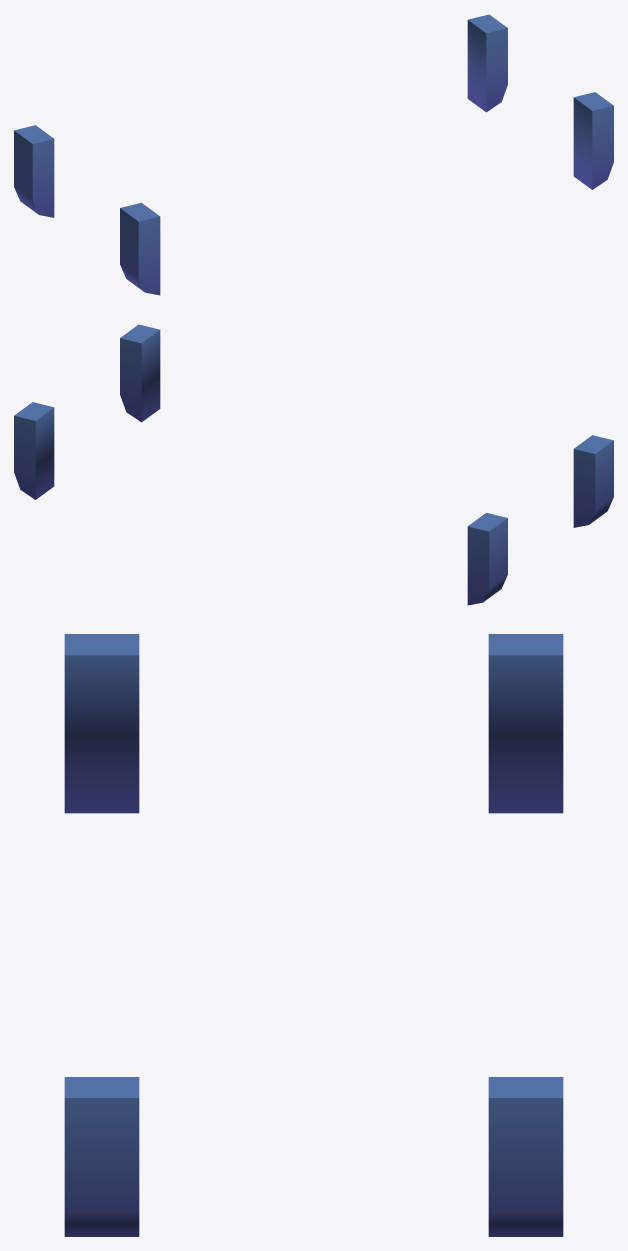
File: supports-wide-clamp.glb
3 renders of one model, top to bottom at view 1: azimuth 30°, elevation 25°; view 2: azimuth 150°, elevation 25°; view 3: azimuth 270°, elevation 25°, orthographic. The views are drawn at different scales.
Parts seen in each view (by area): view 1: supports-wide-clamp; view 2: supports-wide-clamp; view 3: supports-wide-clamp.
Boxes of the visible parts, x1,y1,x2,y2 form: supports-wide-clamp: (14,14,613,295); supports-wide-clamp: (14,324,613,605); supports-wide-clamp: (64,634,563,1236).
Bounding box in the file's own units: 2.2 × 0.35 × 1.
